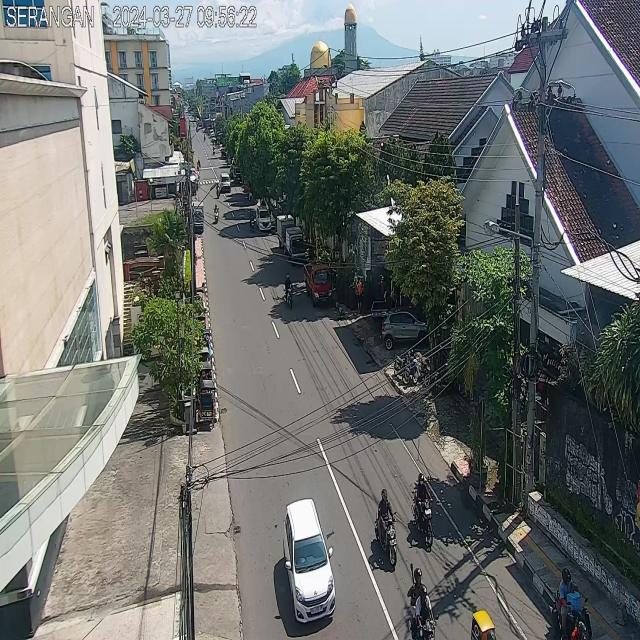car: (279, 496, 337, 624), (256, 205, 272, 232), (220, 172, 231, 193)
motorcycle: (546, 561, 593, 640), (406, 562, 437, 640), (374, 487, 398, 571), (411, 471, 434, 547), (284, 272, 294, 308), (249, 209, 255, 231), (214, 204, 220, 224), (216, 180, 220, 198), (197, 156, 201, 172), (202, 132, 206, 143), (212, 146, 216, 156)
truck: (304, 262, 332, 309), (286, 225, 305, 266), (276, 213, 294, 250)
